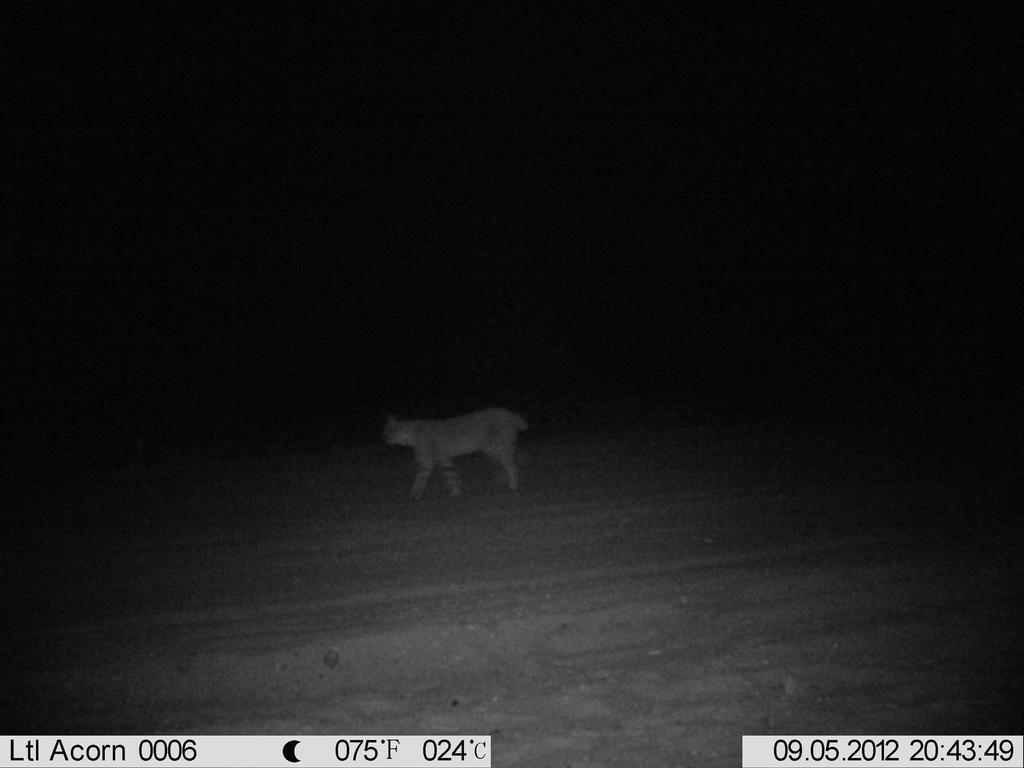bobcat: (379, 402, 534, 503)
